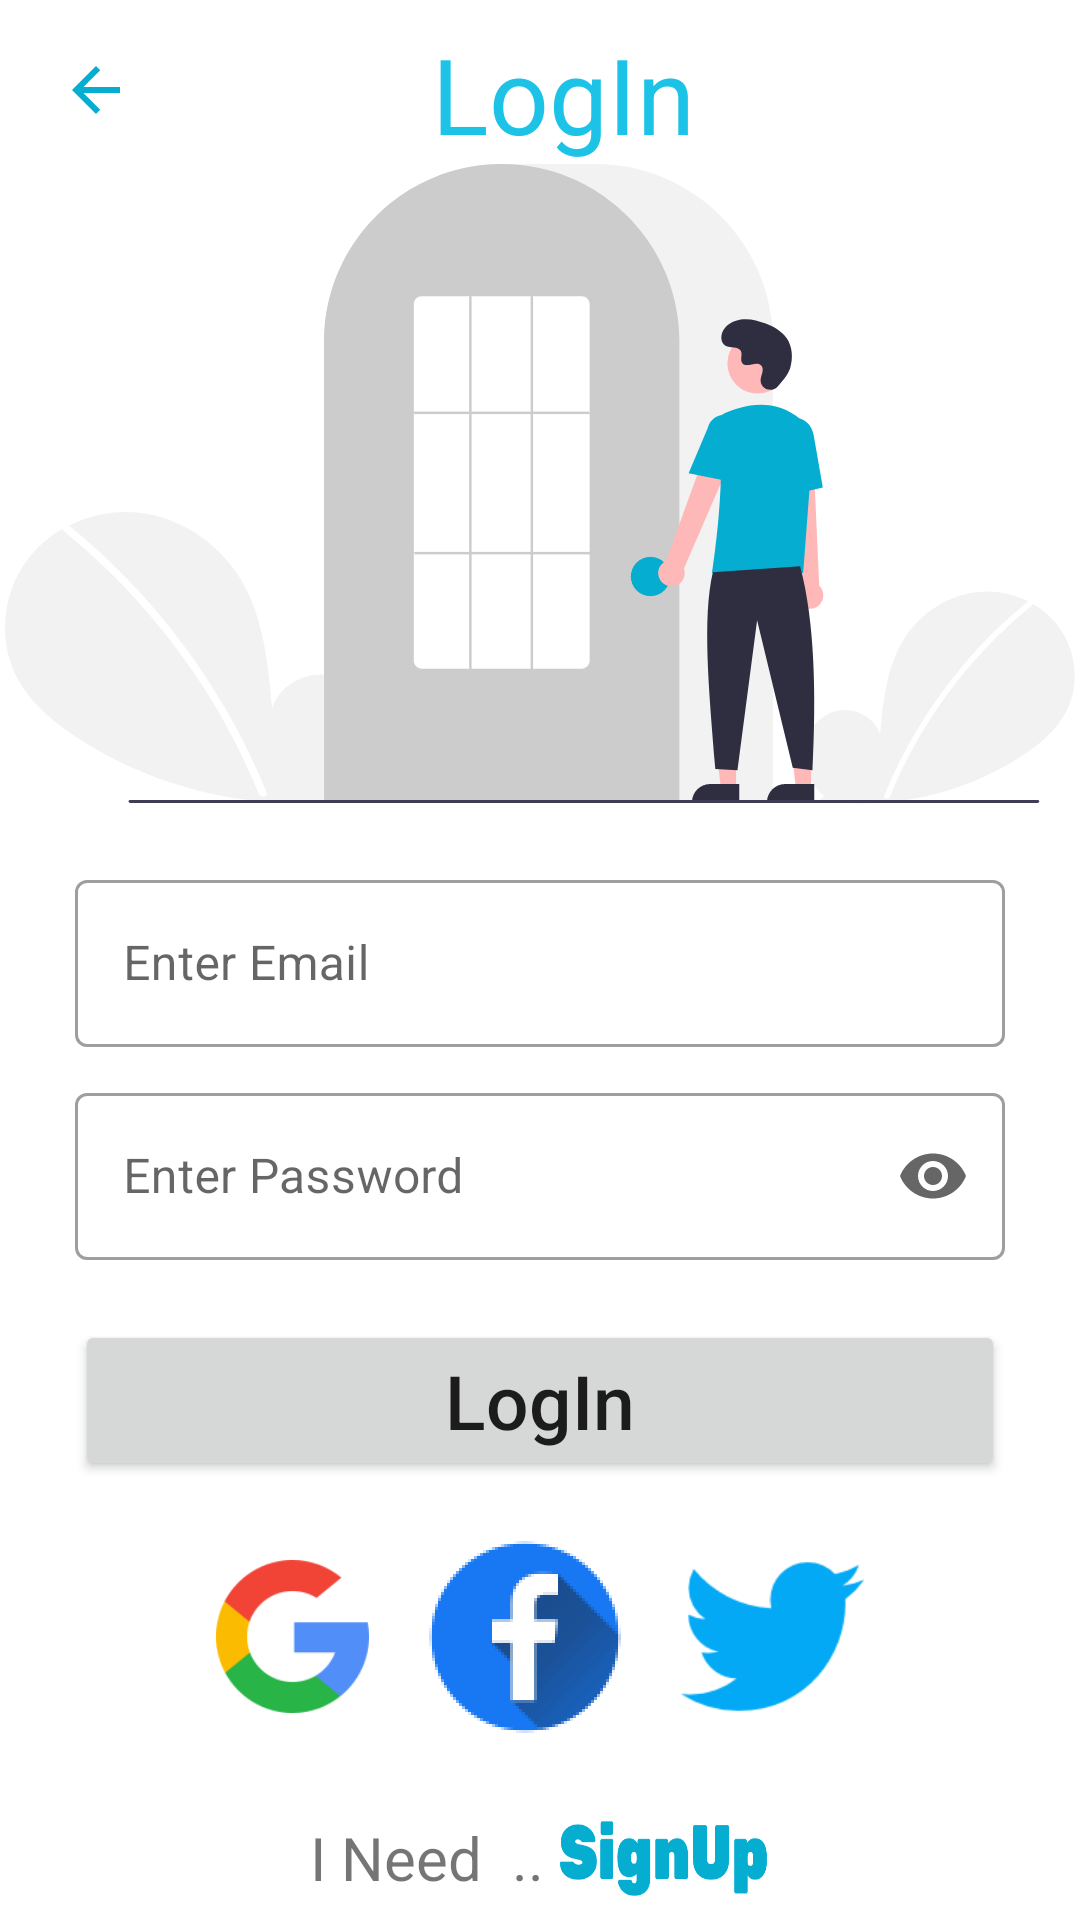

Icon bounding boxes for this 1080w x 1920h phone screenshot, format (x1, y1, x2, y2):
arrow back: (72, 66, 120, 114)
